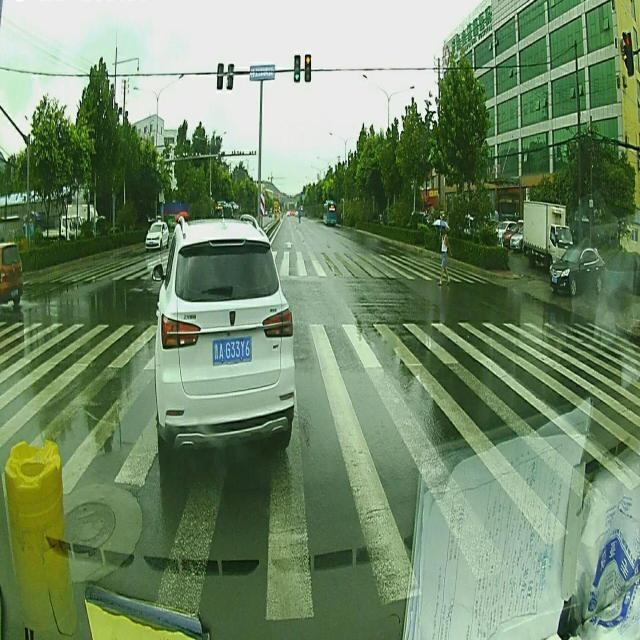car: (154, 223, 294, 457), (550, 246, 606, 292), (1, 241, 22, 302), (145, 224, 171, 246)
